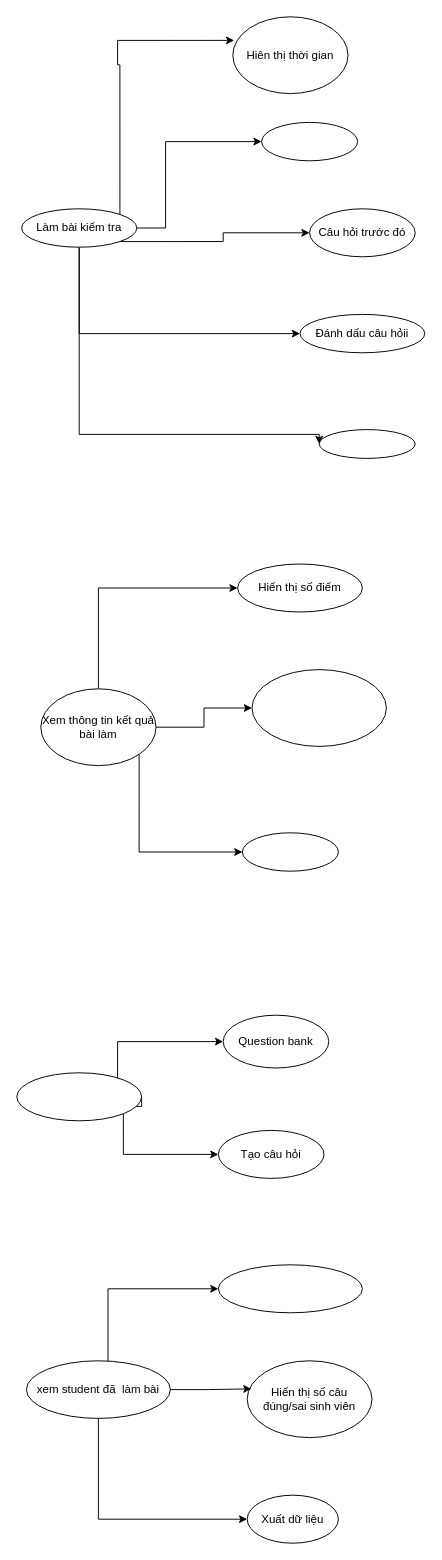
Some shapes in this 442 by 1560 pixel diagram are drawn without their labels. The box of each missing label's shape, as (x1, y1, x2, y2) in pixels:
Câu hỏi tiếp: (261, 121, 358, 161)
Hiển thị biểu đồ số câu đúng câu sai: (251, 669, 386, 746)
Nạp bài: (318, 429, 415, 458)
Tạo bài kiếm tra: (16, 1072, 142, 1121)
Thông tin sinh viên: (217, 1264, 362, 1313)
Xuất kết quả: (241, 832, 338, 871)
